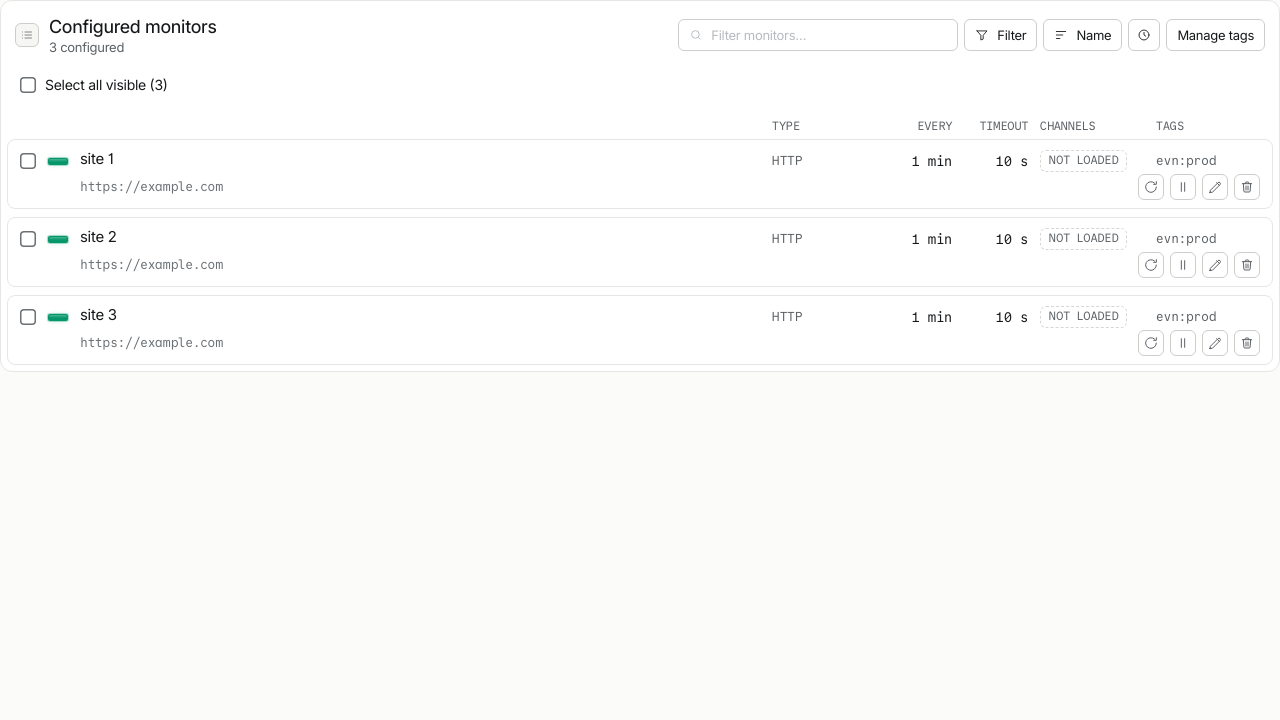
Test: has no management surface for a viewer, and clears selection on permission loss
Check: the link "site 1" is shown, box [80,149,113,173]
Click the checkbox named "Select site 1".
click(28, 161)  # box [15,148,41,174]
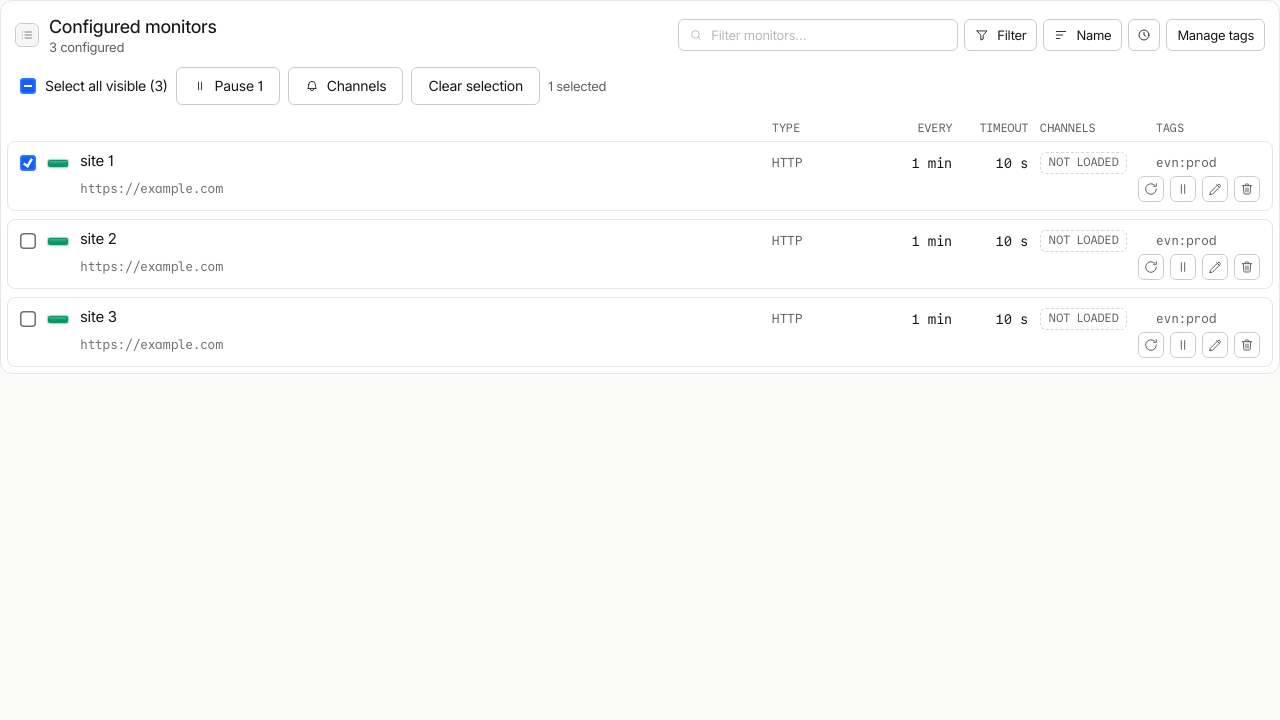
Click the button "Manage tags".
click(1216, 35)  # box [1166,19,1265,51]
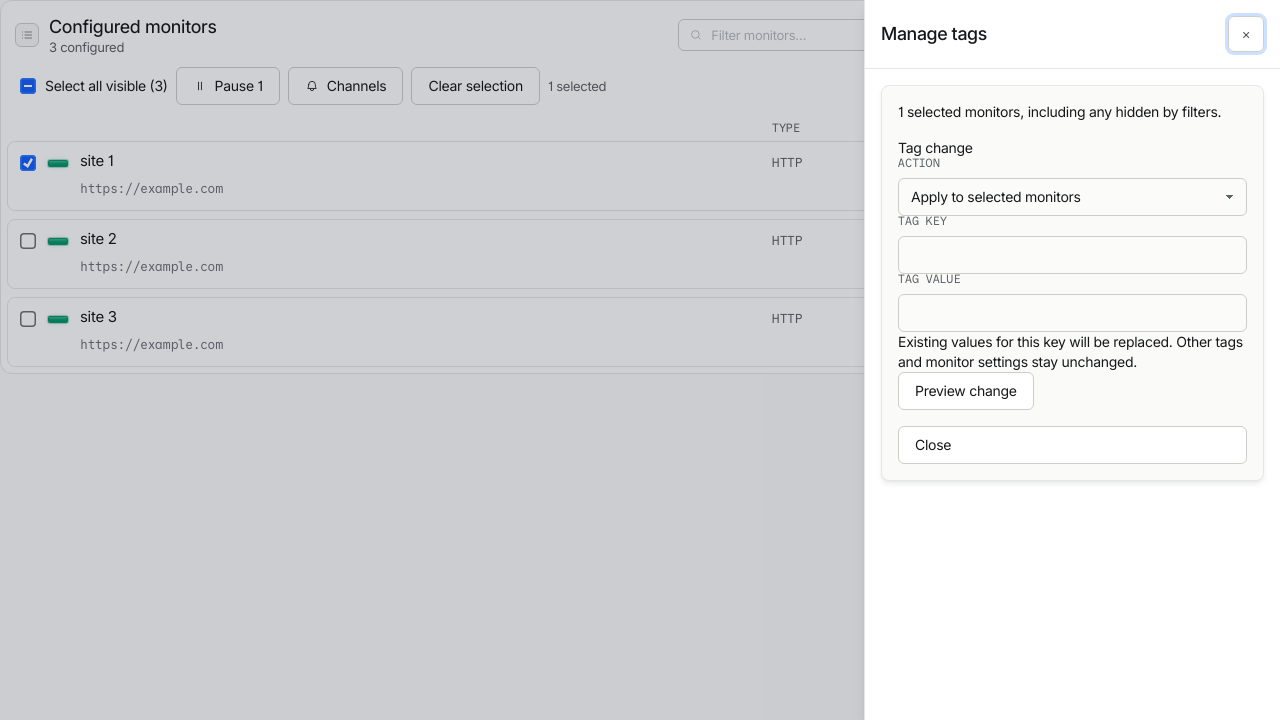
Check: the dialog is shown, box [864,0,1279,719]
